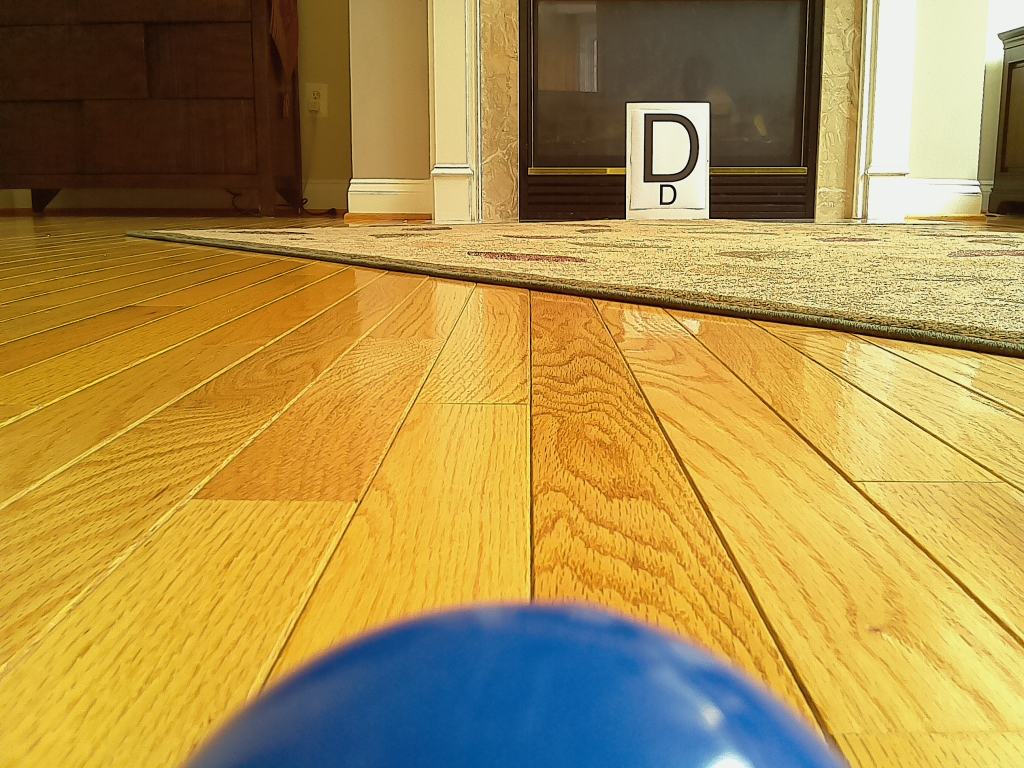letter: (644, 115, 698, 183)
